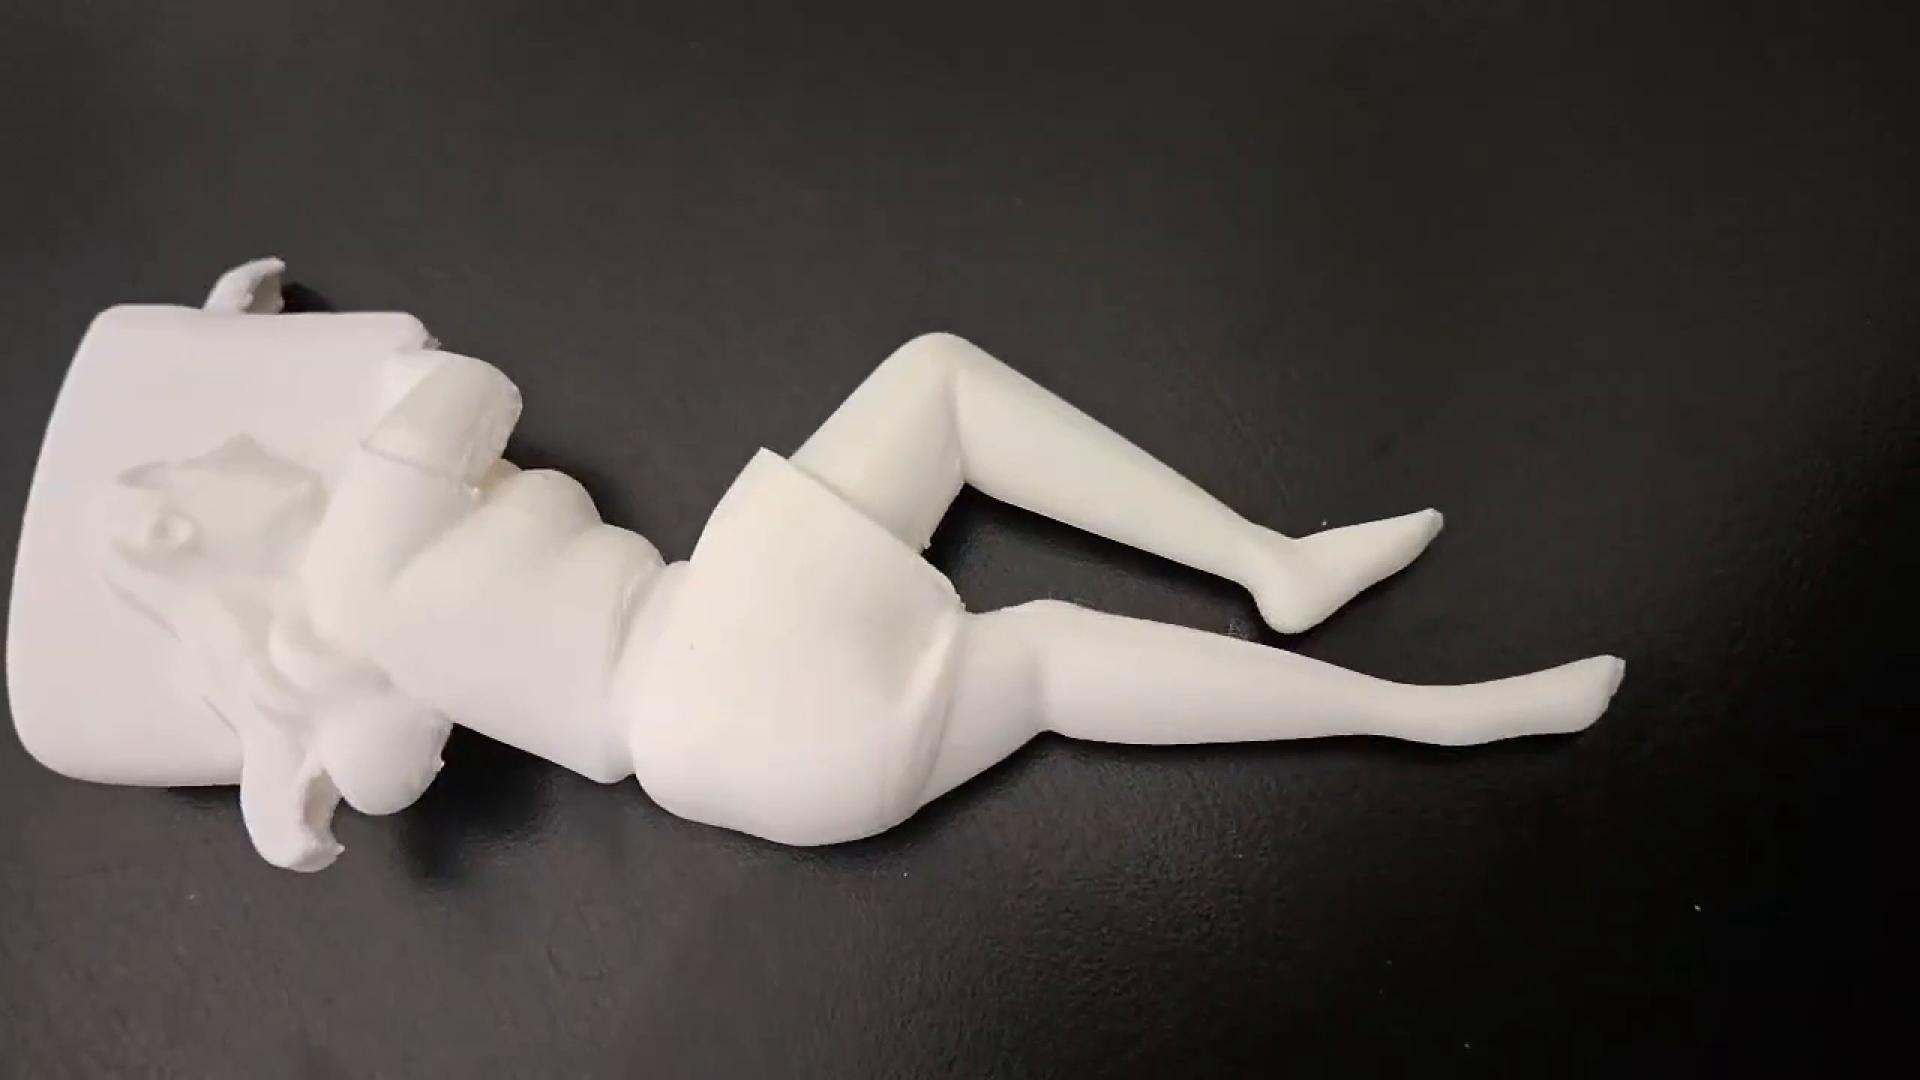Good-style: (12, 255, 1636, 885)
